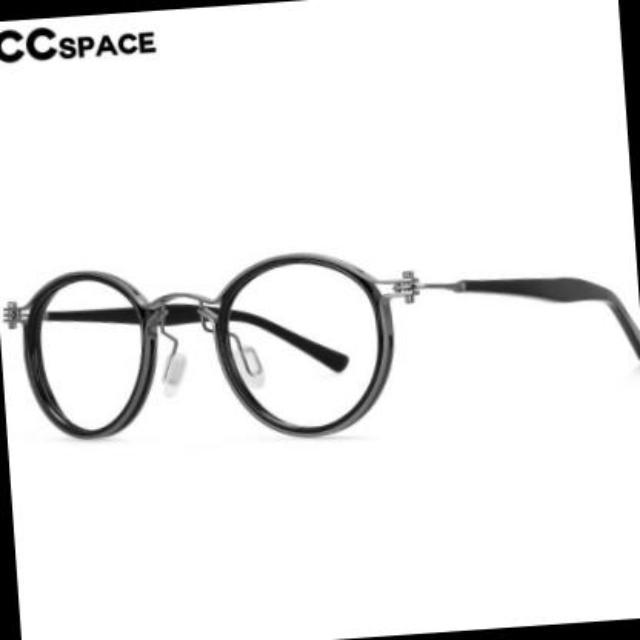glasses: (10, 250, 630, 438)
